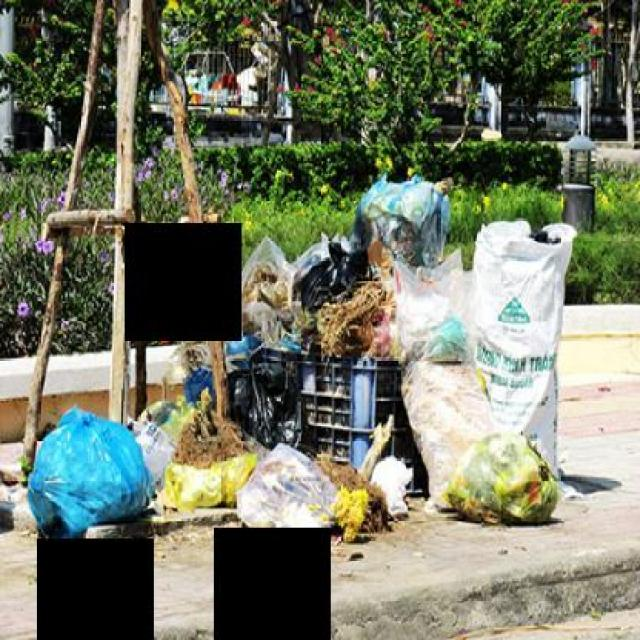plastic bag: (382, 209, 580, 525), (232, 206, 372, 346), (17, 401, 160, 537), (229, 423, 345, 551), (217, 343, 315, 455)
